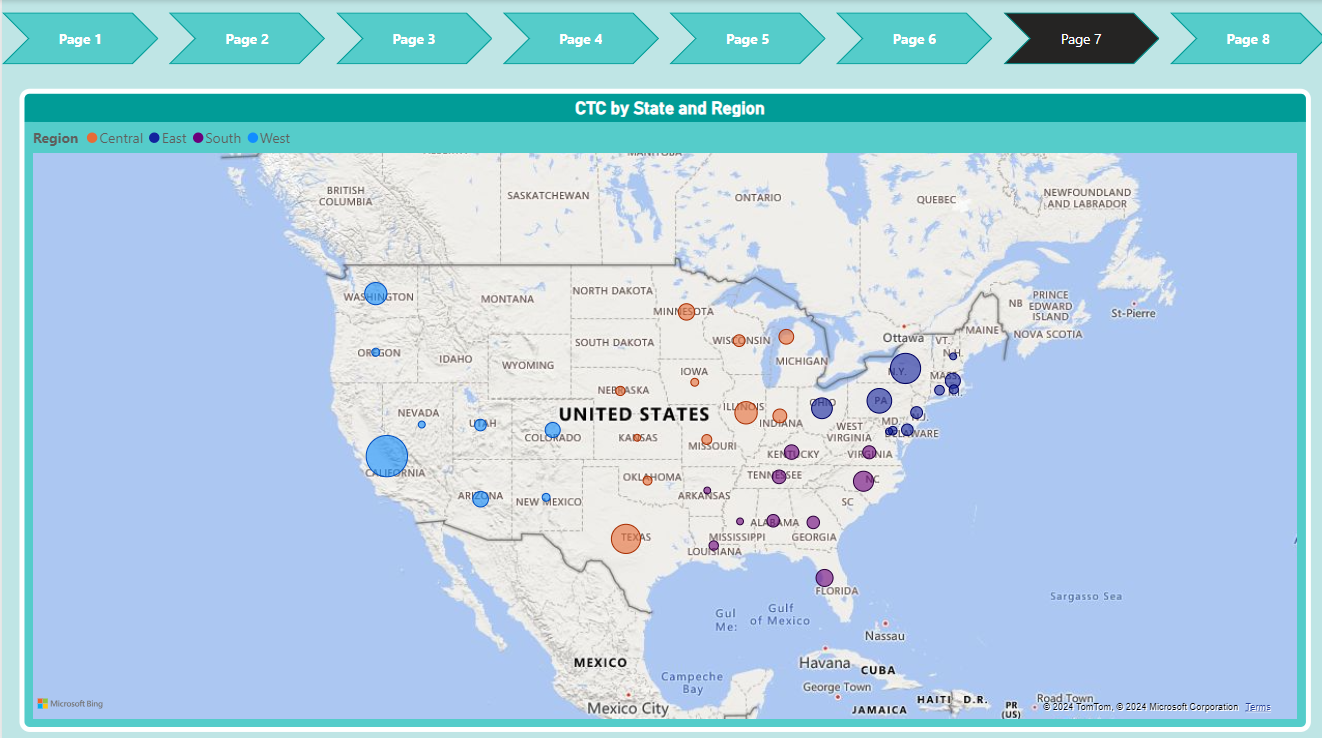

Layout of this report page (visuals, bound fields, positions):
{"tool":"powerbi","page":{"name":"Page 7","canvas":[1280,720],"ordinal":6},"visuals":[{"type":"map","title":"CTC by State and Region","fields":{"Series":["Store Data.region"],"Size":["Sum(Hiring Data.ctc)"],"Category":["Store Data.state"]},"box":[17.1,85.6,1246.1,621.2],"z":0},{"type":"pageNavigator","box":[0,12.1,1280,50.7],"z":1000}]}

Visuals, with their boxes in screenshot pixels (x1, y1, x2, y2), scaled from the page's 1280x720 canvas onto the 1322x738 screenshot:
"CTC by State and Region" map: 18:88:1305:724
pageNavigator: 0:12:1321:64
